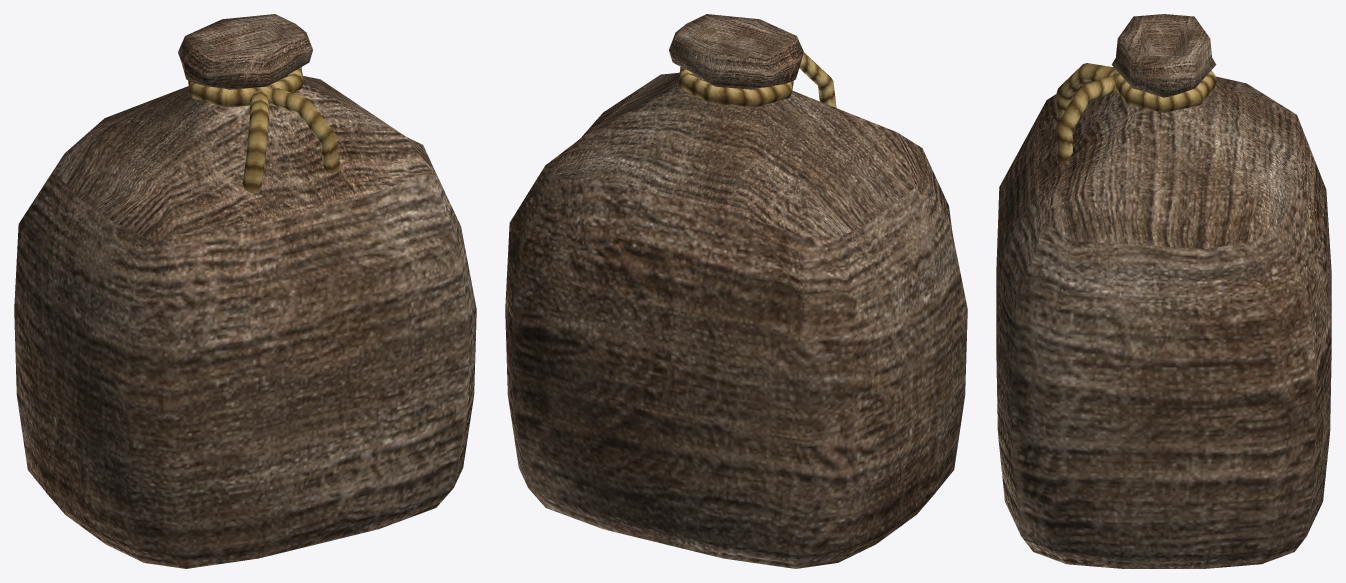
Rendered from bag-03.fbx.
3 renders of one model, left to right at view 1: azimuth 30°, elevation 25°; view 2: azimuth 150°, elevation 25°; view 3: azimuth 270°, elevation 25°, orthographic.
Parts seen in each view (by area): view 1: Cube.245; view 2: Cube.245; view 3: Cube.245.
Boxes of the visible parts, left/top/right/bottom form: Cube.245: left=14, top=14, right=476, bottom=568; Cube.245: left=505, top=14, right=967, bottom=568; Cube.245: left=996, top=14, right=1331, bottom=568.
Bounding box in the file's own units: 0.5311 × 0.6272 × 0.4212.
